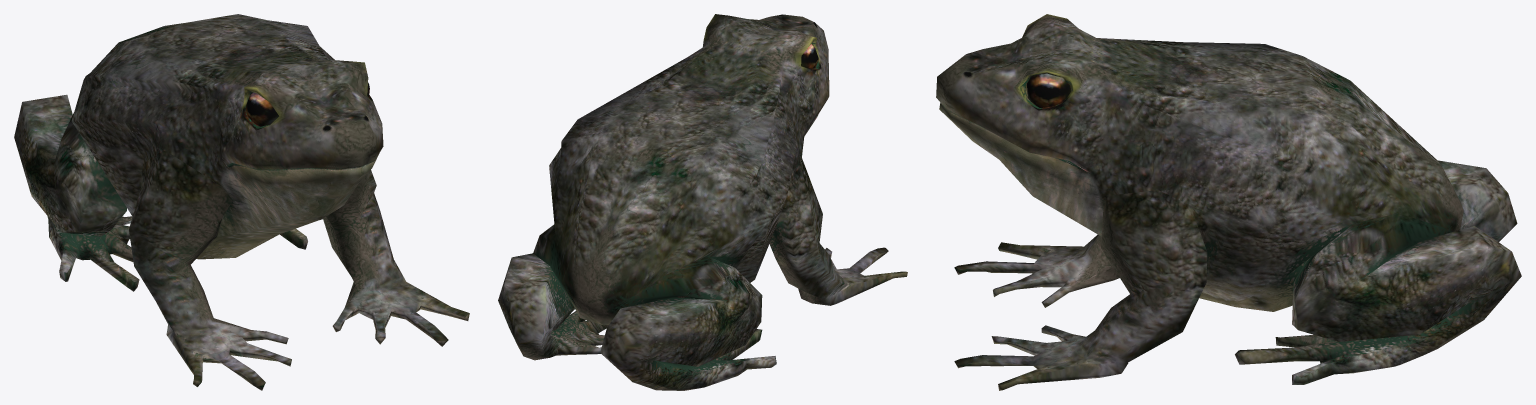
The model's file is Rana_criolla_dos.glb.
The picture shows the model from 3 angles, left to right: view 1: azimuth 30°, elevation 25°; view 2: azimuth 150°, elevation 25°; view 3: azimuth 270°, elevation 25°; orthographic projection. The views are drawn at different scales.
Parts seen in each view (by area): view 1: Toad_Toad_Mesh; view 2: Toad_Toad_Mesh; view 3: Toad_Toad_Mesh.
Part boxes in pixels (left/top/right/bottom): Toad_Toad_Mesh: left=14, top=14, right=469, bottom=390; Toad_Toad_Mesh: left=498, top=14, right=907, bottom=390; Toad_Toad_Mesh: left=936, top=14, right=1521, bottom=390.
Bounding box in the file's own units: 2.21 × 2.01 × 3.82.
Materials: 1 (1 with a texture image).
